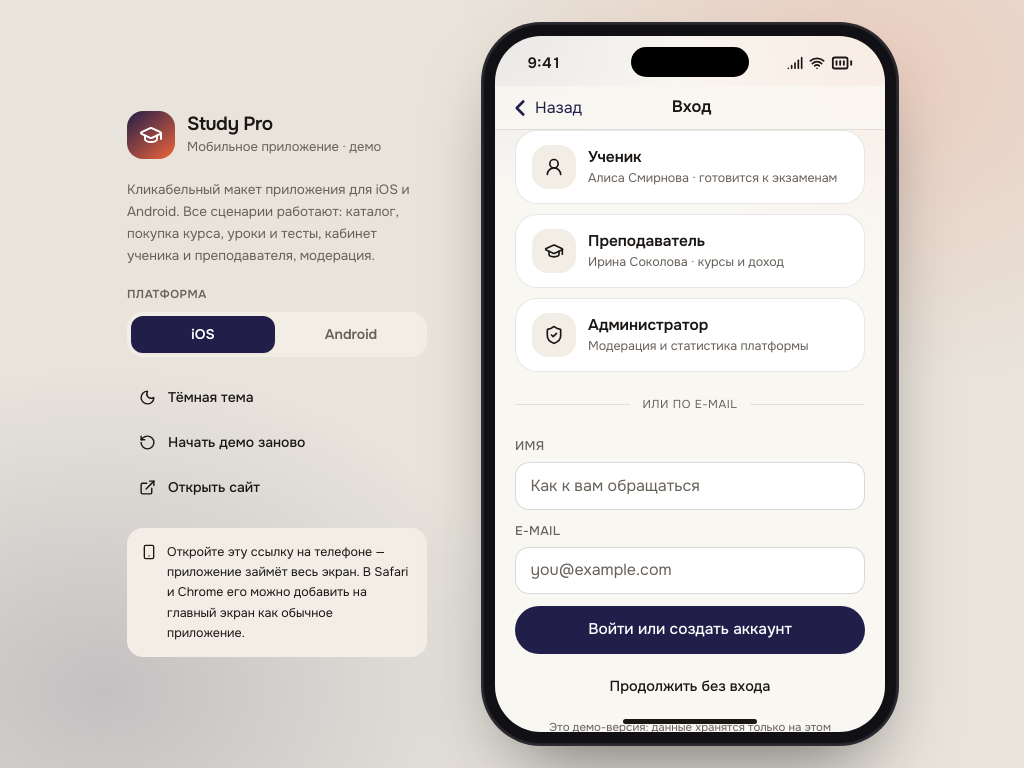
Test case: auth › validates the e-mail form
(page scrolled)
Type "bad" into the field labelled "E-mail" at [690, 570], box [515, 546, 865, 594]
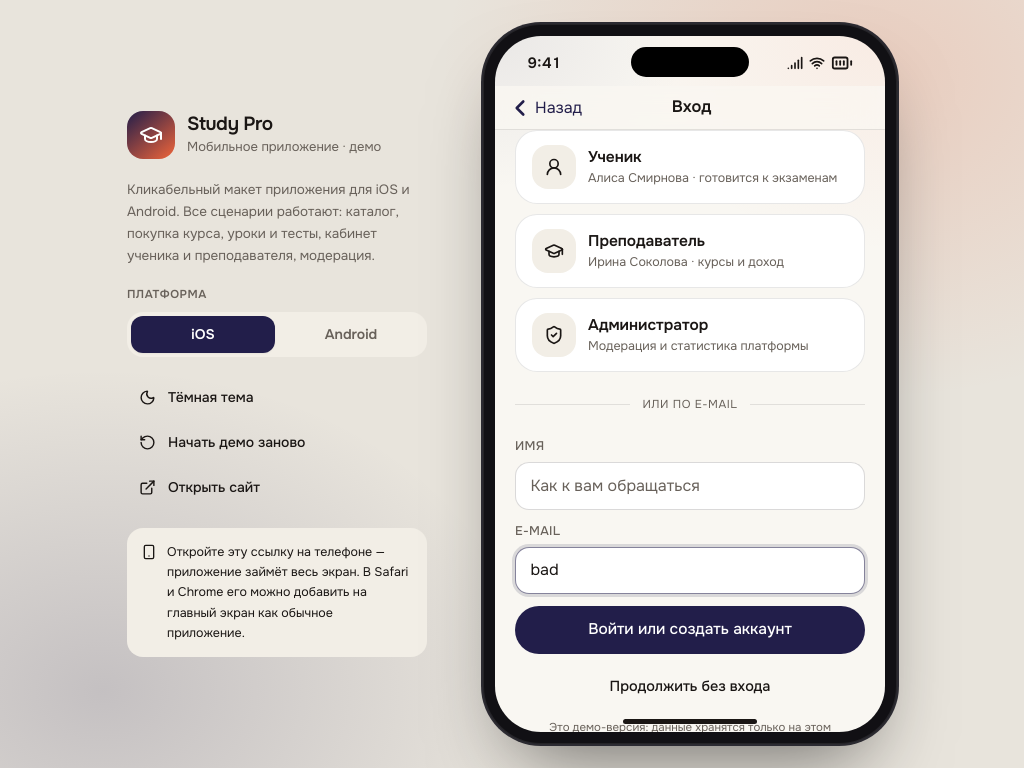
Click the button "Войти или создать аккаунт" at [690, 630], box [515, 606, 865, 654]
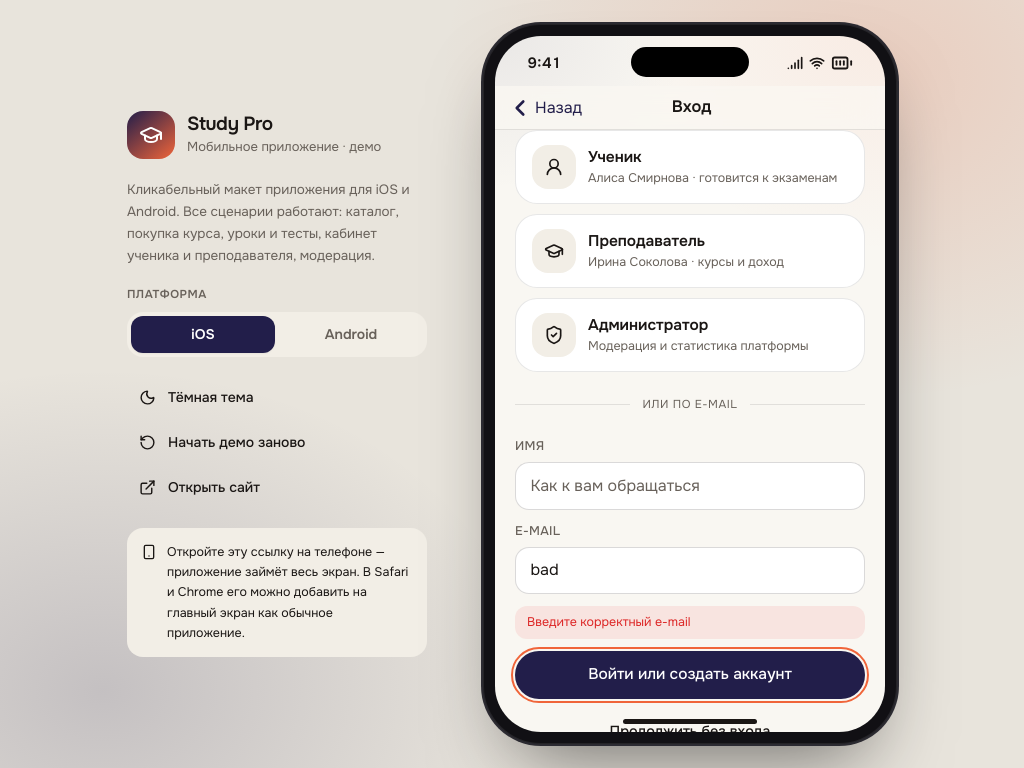
Expected: the message shows "корректный e-mail", [527, 614, 690, 630]
